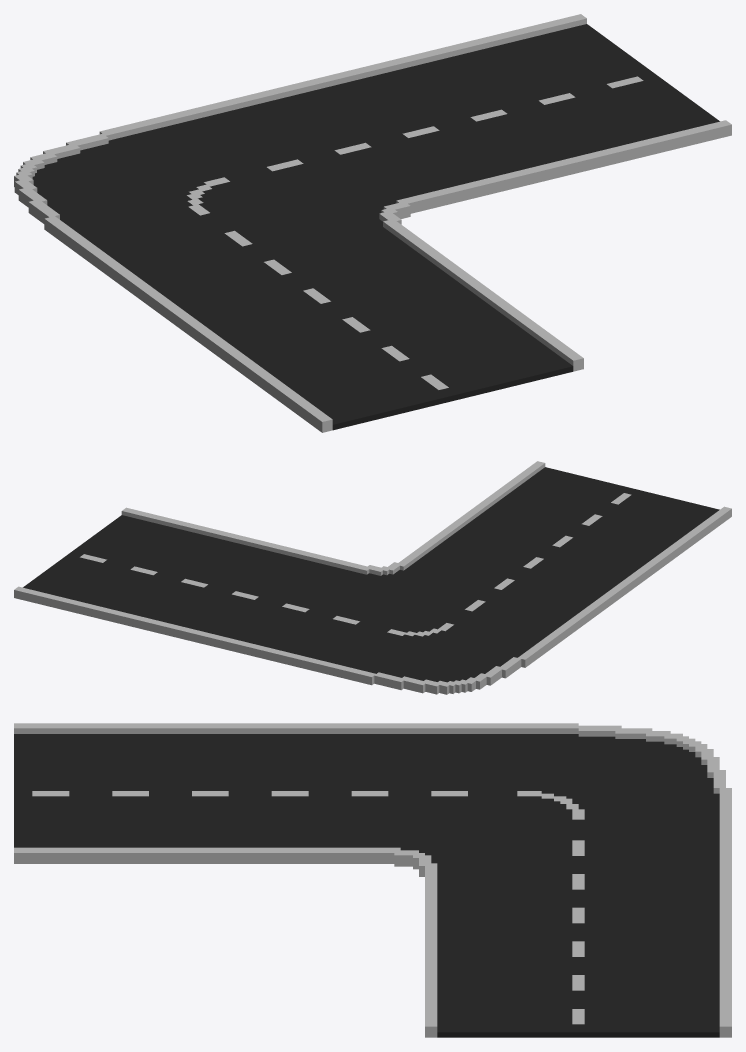
The model's file is All-15-Road_Curve.obj.
3 renders of one model, top to bottom at view 1: azimuth 30°, elevation 25°; view 2: azimuth 150°, elevation 25°; view 3: azimuth 270°, elevation 25°, orthographic. The views are drawn at different scales.
Visible parts, largest first — view 1: Road_Curve; view 2: Road_Curve; view 3: Road_Curve.
Boxes of the visible parts, <box> form: Road_Curve: <box>14,14,731,432</box>; Road_Curve: <box>14,461,731,694</box>; Road_Curve: <box>14,723,731,1037</box>.
Bounding box in the file's own units: 11.7 × 0.2 × 11.7.
1 material, 1 textured.
